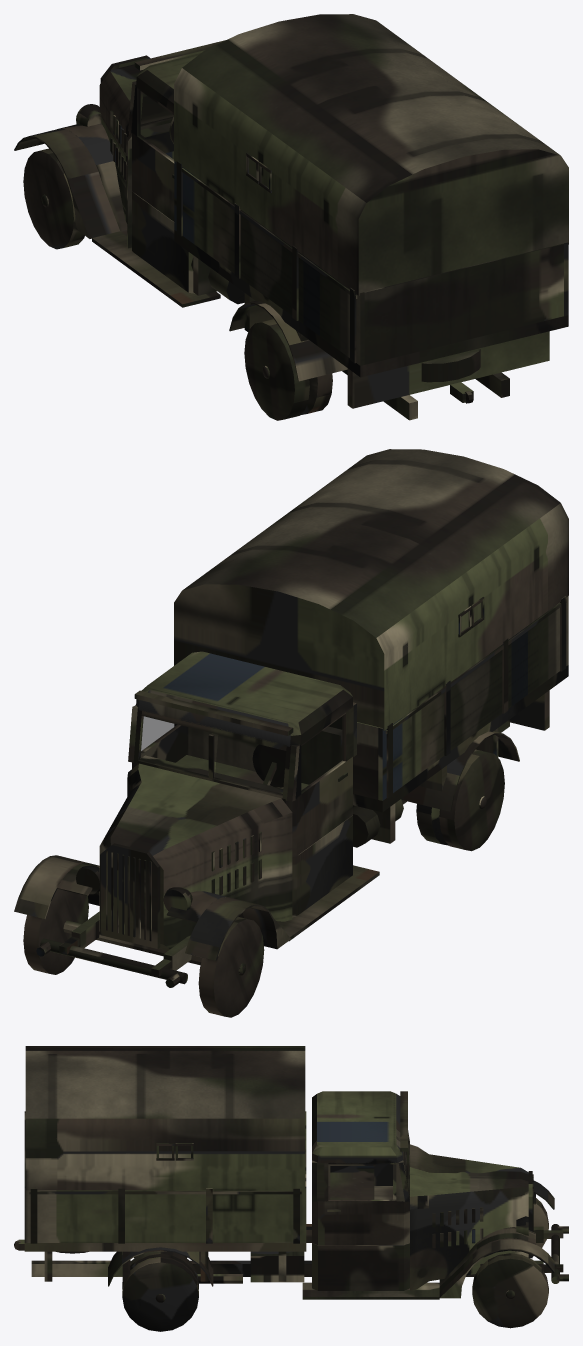
3 views of the same model, one above another, from view 1: azimuth 30°, elevation 25°; view 2: azimuth 150°, elevation 25°; view 3: azimuth 270°, elevation 25° (orthographic). The views are drawn at different scales.
Parts seen in each view (by area): view 1: Chassis, Roue_02, Roue_Gauche_01; view 2: Chassis, Roue_02, Roue_Gauche_01, Roue_Droite_01; view 3: Chassis, Roue_02, Roue_Droite_01, Roue_Gauche_01.
Part boxes in pixels (x1=…): Chassis: x1=14, y1=14, x2=568, y2=420; Roue_02: x1=244, y1=319, x2=332, y2=420; Roue_Gauche_01: x1=23, y1=148, x2=84, y2=249; Chassis: x1=14, y1=449, x2=568, y2=987; Roue_02: x1=416, y1=749, x2=504, y2=851; Roue_Gauche_01: x1=198, y1=916, x2=264, y2=1017; Roue_Droite_01: x1=23, y1=889, x2=88, y2=974; Chassis: x1=14, y1=1046, x2=568, y2=1299; Roue_02: x1=122, y1=1251, x2=198, y2=1331; Roue_Droite_01: x1=472, y1=1253, x2=548, y2=1328; Roue_Gauche_01: x1=532, y1=1198, x2=548, y2=1256.
Bounding box in the file's own units: 202 × 579 × 262.
Materials: 2 (1 with a texture image).
